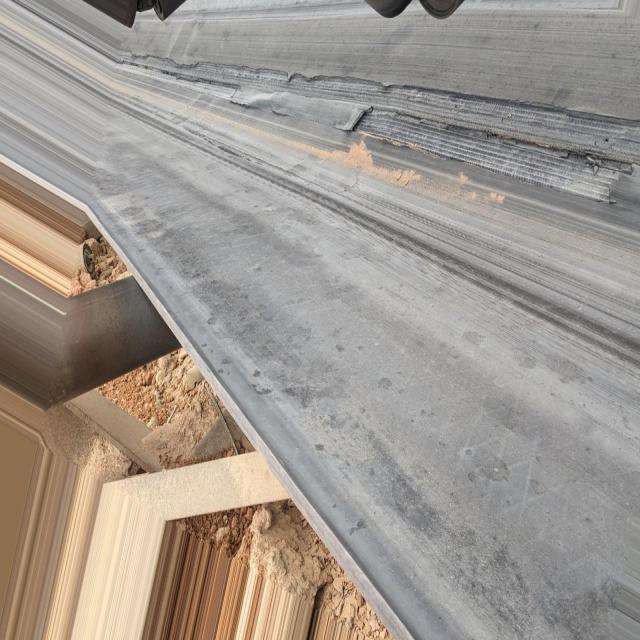Roller: (70, 267, 182, 395), (371, 0, 415, 26), (426, 1, 462, 23), (158, 3, 187, 22)
Tear: (127, 43, 640, 213)
